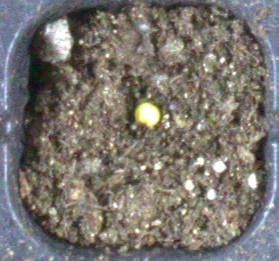chilli seed: (133, 100, 160, 127)
